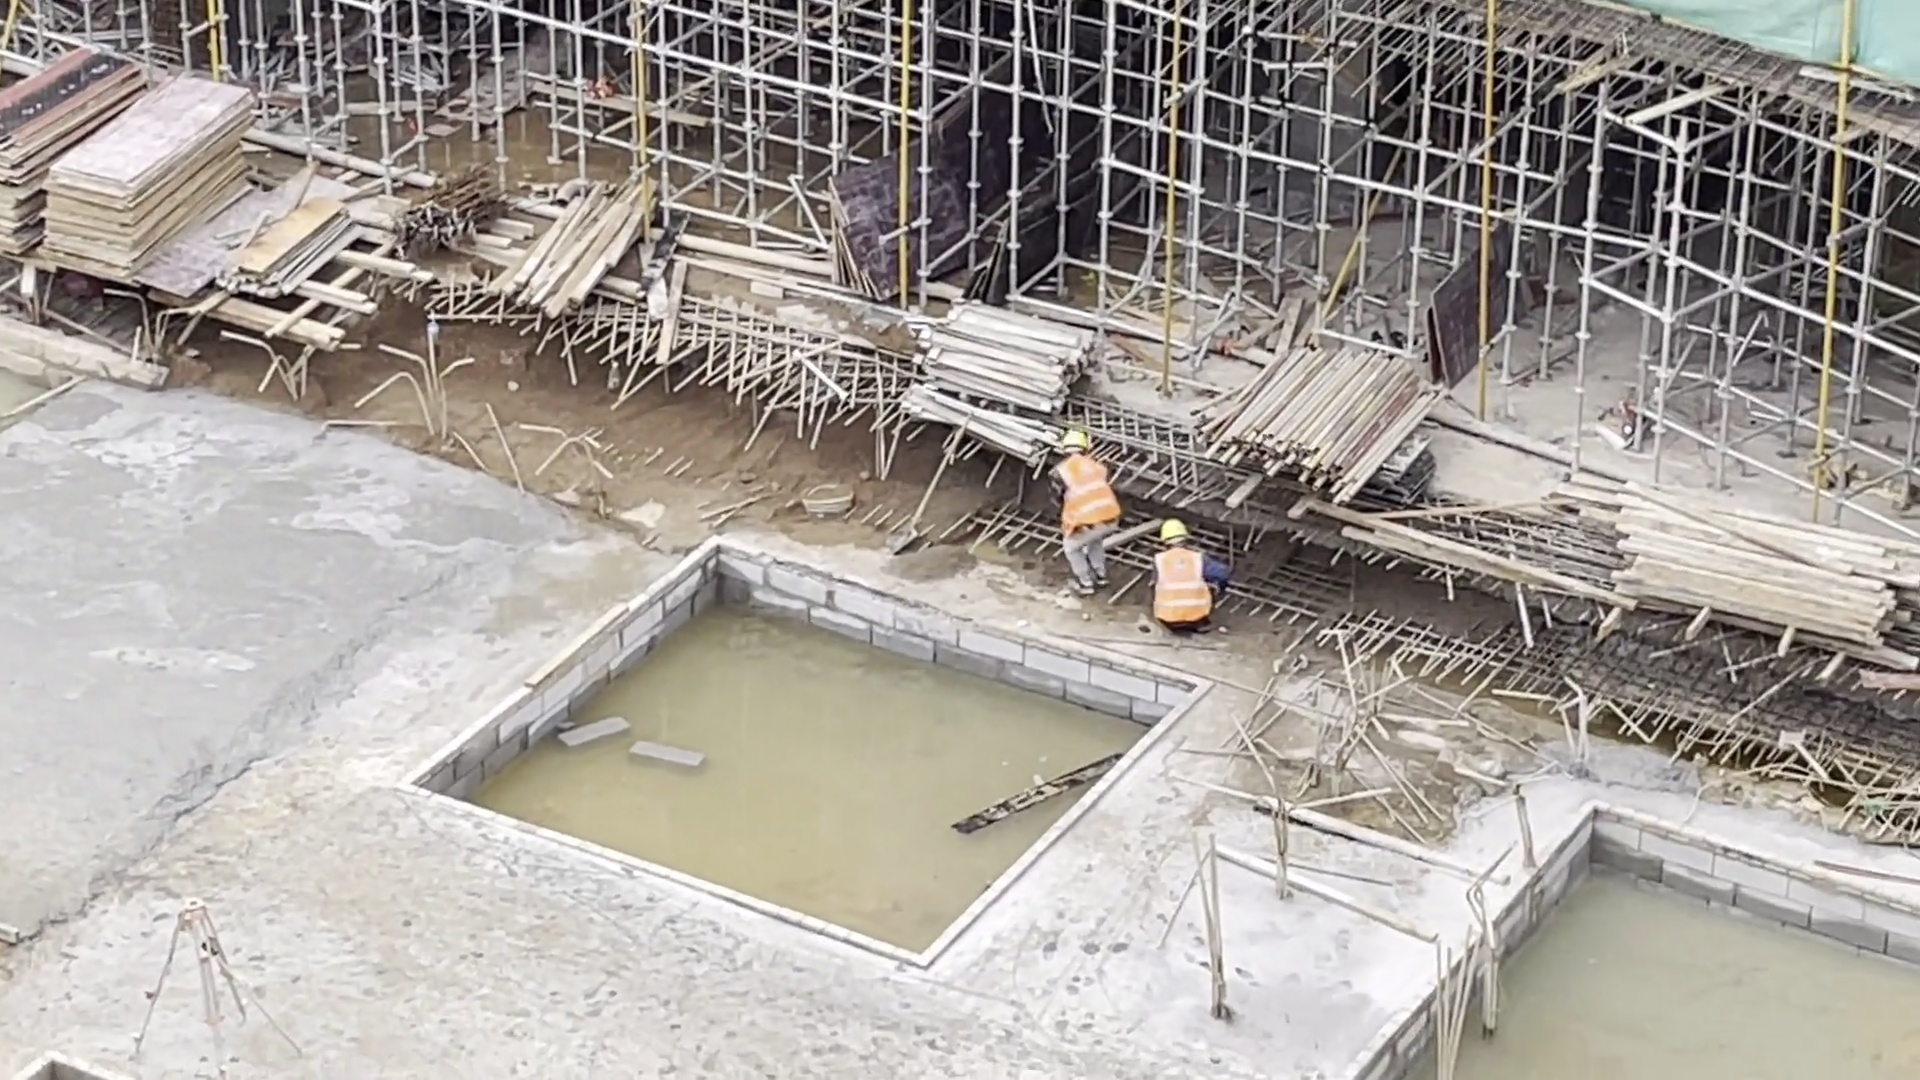helmet: (1160, 517, 1190, 545), (1058, 431, 1088, 451)
person: (1051, 425, 1122, 599), (1148, 517, 1240, 634)
vest: (1151, 549, 1213, 629), (1057, 455, 1120, 528)
